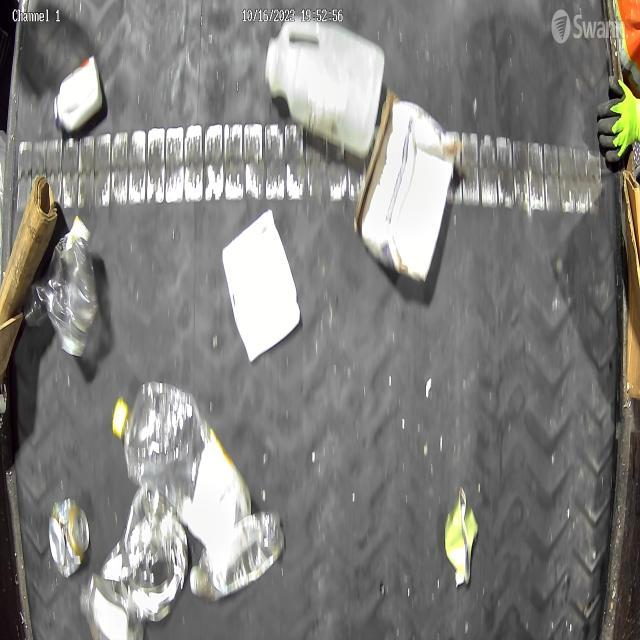can: (40, 489, 94, 578), (443, 482, 478, 586)
milk_jug: (262, 18, 388, 170)
plastic_bottle: (113, 380, 256, 560), (26, 217, 104, 361), (187, 506, 290, 604)
